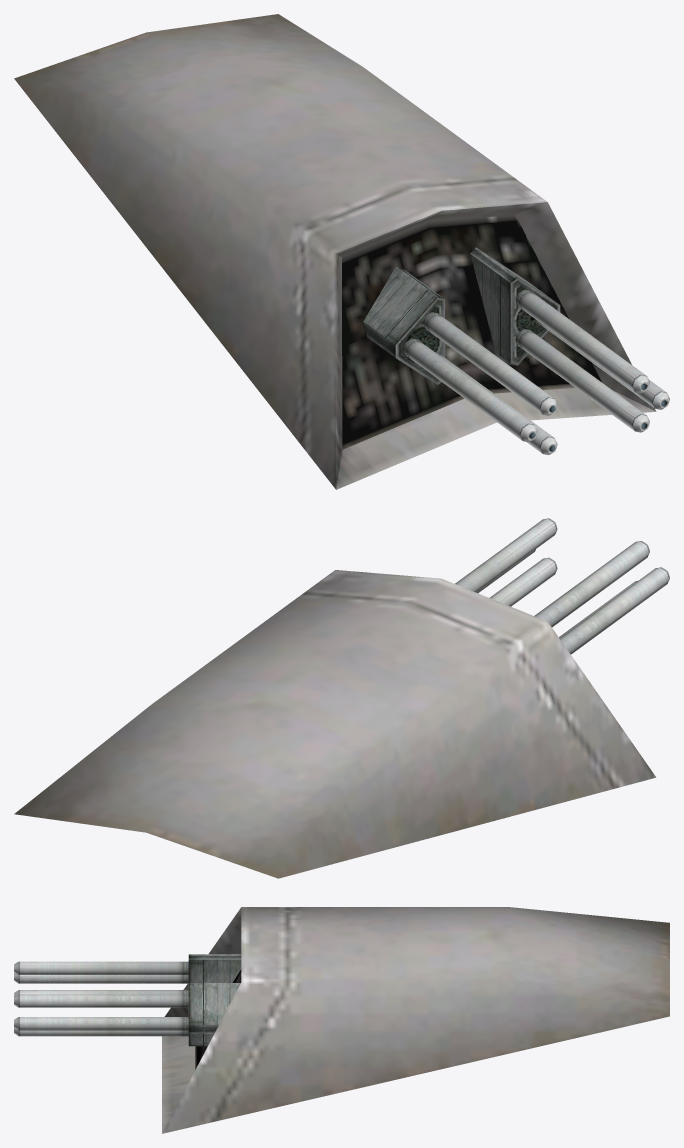
Rendered from hutt_fighter_heavy_weapon3_s04_l0.fbx.
3 views of the same model, one above another, from view 1: azimuth 30°, elevation 25°; view 2: azimuth 150°, elevation 25°; view 3: azimuth 270°, elevation 25° (orthographic). The views are drawn at different scales.
Visible parts, largest first — view 1: mesh_node; view 2: mesh_node; view 3: mesh_node.
Boxes of the visible parts, bbox=[...] form: mesh_node: bbox=[14, 14, 669, 489]; mesh_node: bbox=[14, 518, 669, 878]; mesh_node: bbox=[14, 907, 669, 1133].
Size of the model in its own units: 1 by 0.5976 by 2.45.
